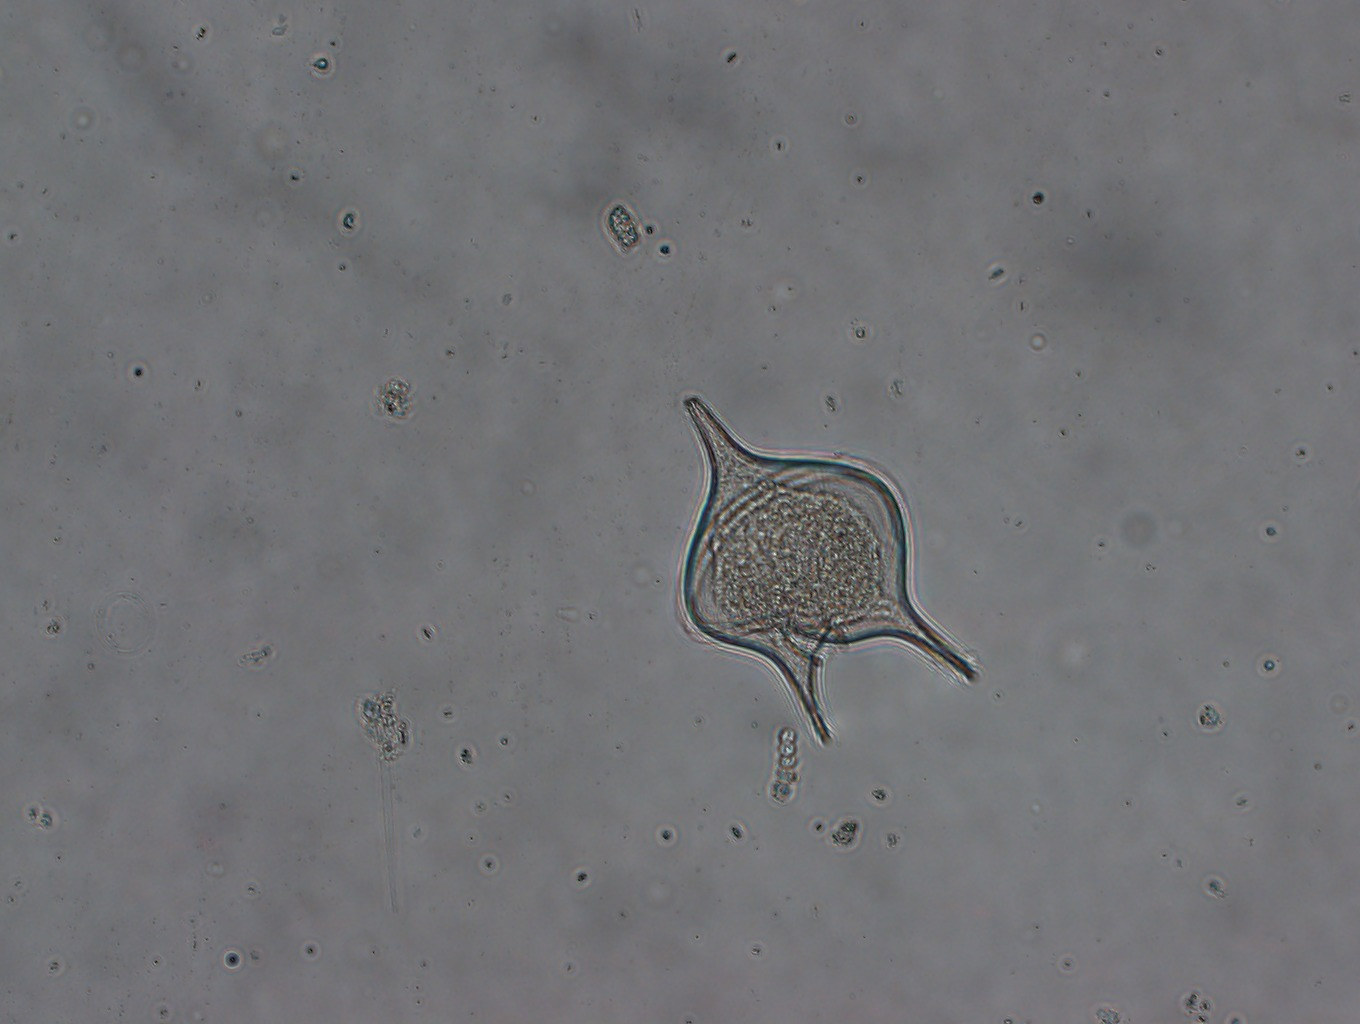protoperidinium: (665, 389, 990, 752)
